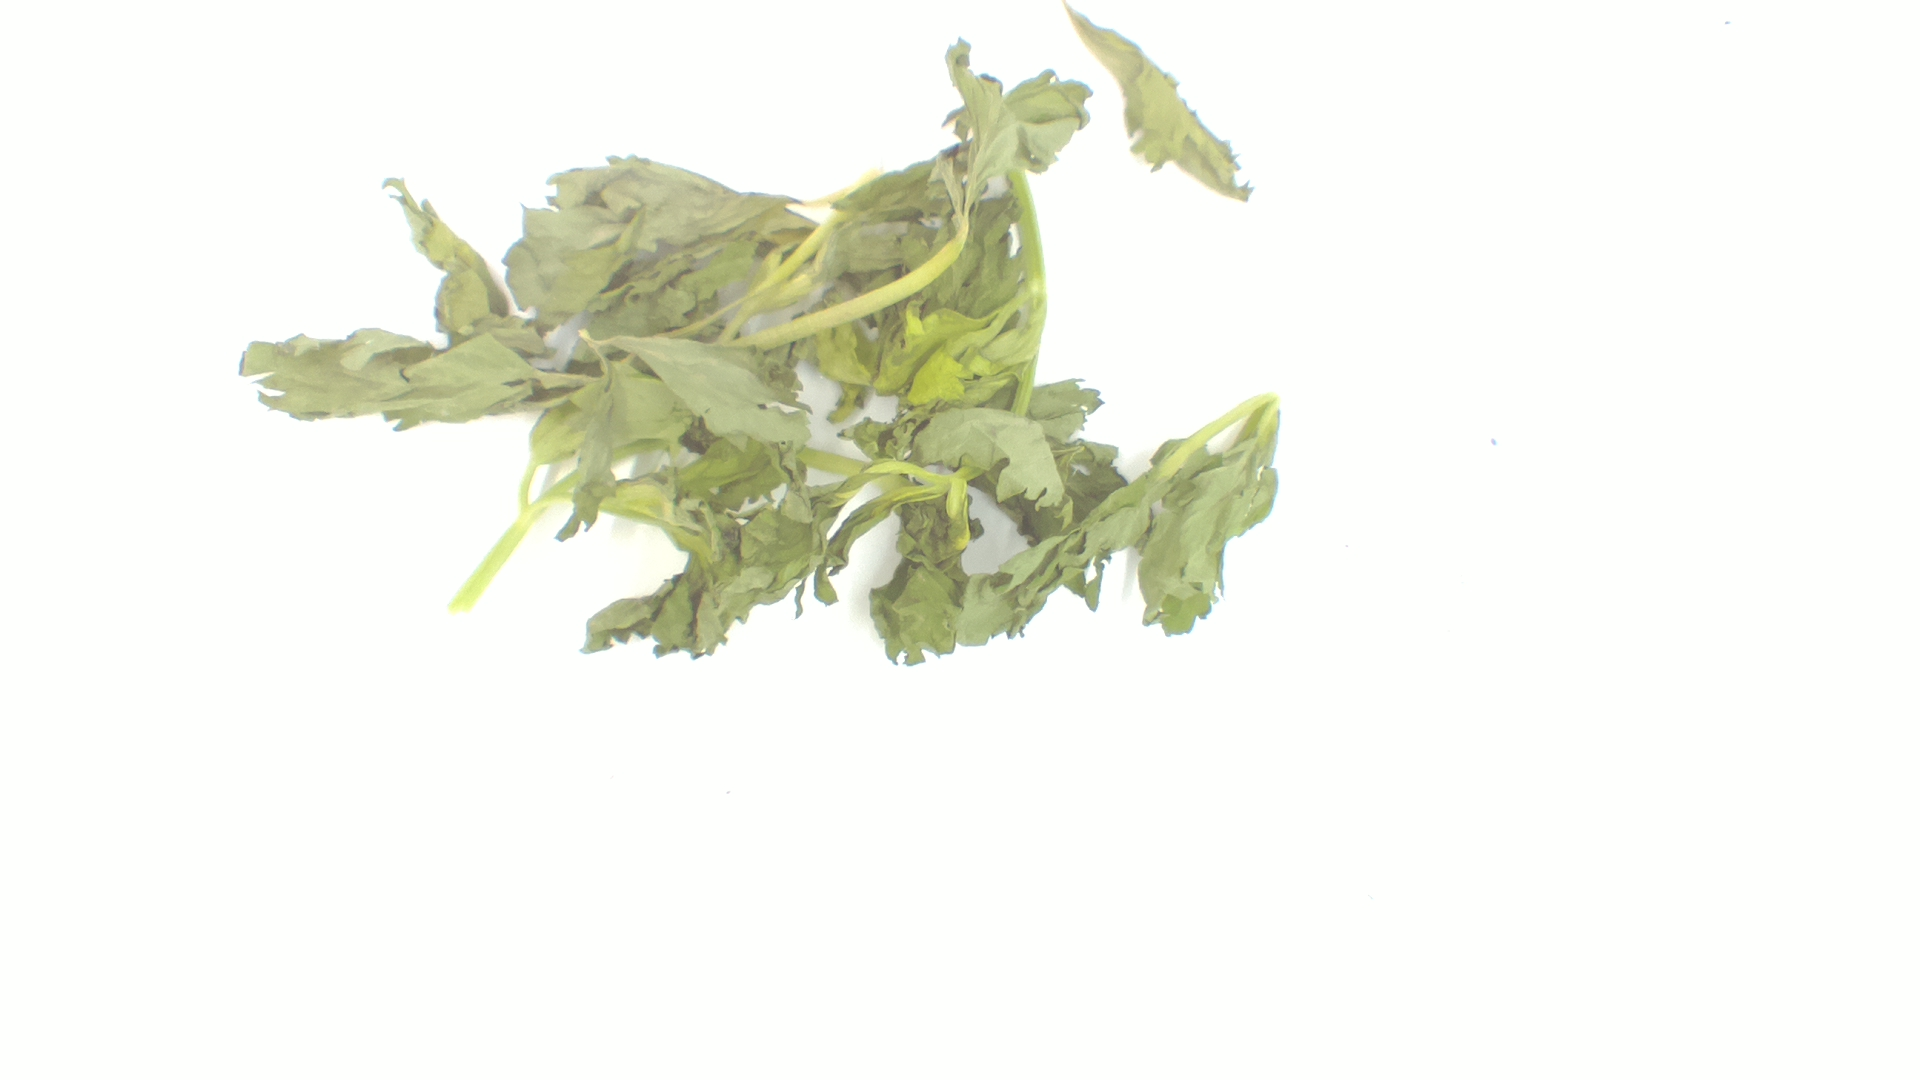vegetable: (241, 5, 1284, 669)
